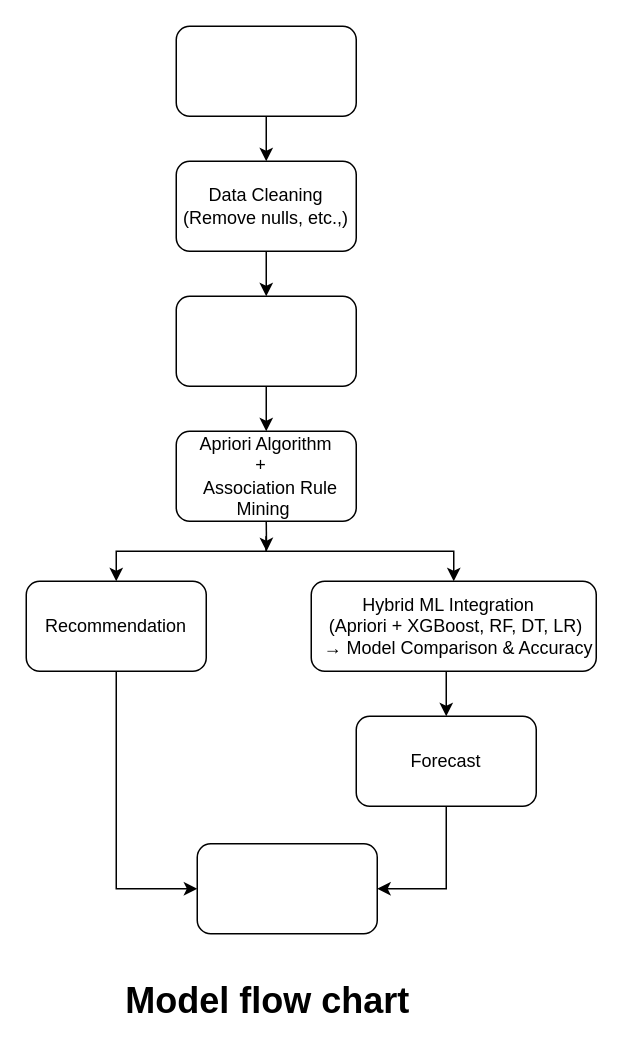
The diagram is 623 pixels wide and 1058 high, and some of its shapes have lost their labels. Each missing label, with the centre of its shape:
"Data Balancing" goes at (x=265, y=340).
"Load Dataset" goes at (x=265, y=70).
"Web Dashboard" goes at (x=286, y=888).
